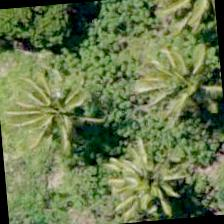Kelapa_Sawit: (2, 62, 100, 160), (95, 134, 193, 223), (148, 33, 223, 130), (152, 0, 219, 44)
